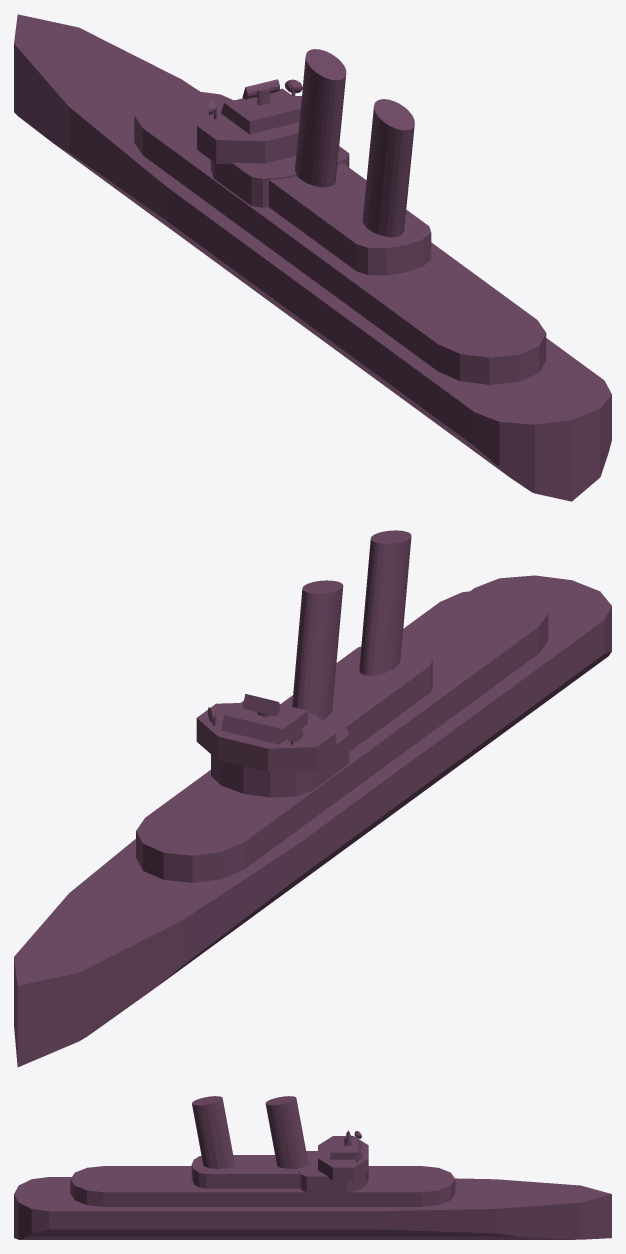
The model's file is blenderhull2.glb.
3 views of the same model, one above another, from view 1: azimuth 30°, elevation 25°; view 2: azimuth 150°, elevation 25°; view 3: azimuth 270°, elevation 25° (orthographic). The views are drawn at different scales.
Parts seen in each view (by area): view 1: Mesh_Mesh_head_geo.001_lambert2SG.001; view 2: Mesh_Mesh_head_geo.001_lambert2SG.001; view 3: Mesh_Mesh_head_geo.001_lambert2SG.001.
Part boxes in pixels (x1,y1,x2,y2): Mesh_Mesh_head_geo.001_lambert2SG.001: [14, 14, 611, 501]; Mesh_Mesh_head_geo.001_lambert2SG.001: [14, 530, 611, 1067]; Mesh_Mesh_head_geo.001_lambert2SG.001: [14, 1096, 611, 1239].
Bounding box in the file's own units: 20 × 38.24 × 148.
Materials: 1 (1 with a texture image).
